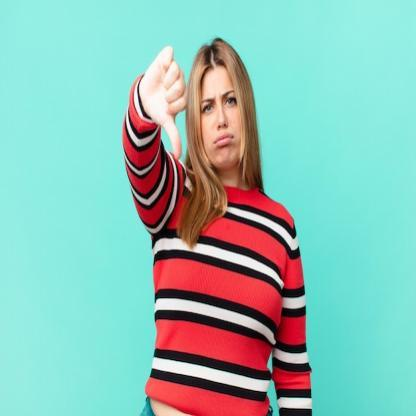thumb_down: (140, 41, 190, 166)
